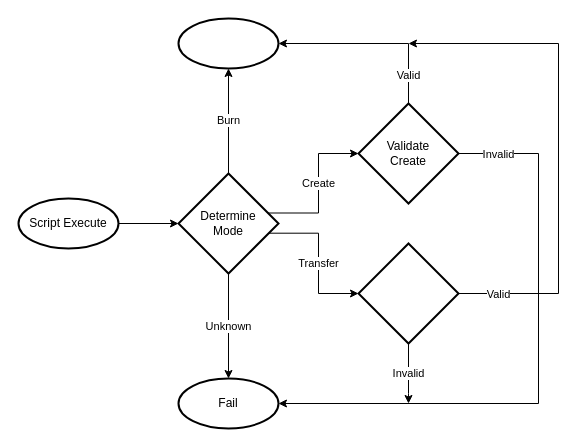
Image size: 584x446. Some labels were removed from this diagram. The shapes that lost their labels are listed below. From the top down, each one's box as (x1, y1, x2, y2) in pixels, then its label:
(177, 17, 279, 69): Success
(357, 242, 459, 344): Validate Transfer
